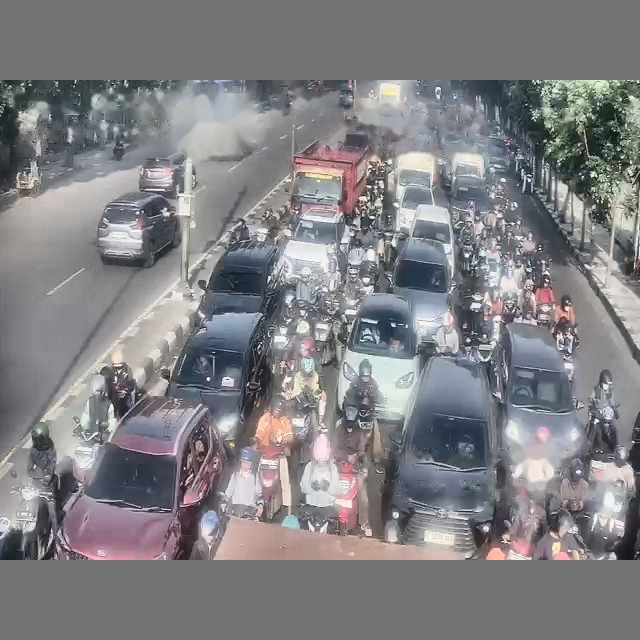Mobil: (56, 396, 225, 559), (385, 356, 501, 556), (166, 313, 270, 449), (491, 323, 584, 464), (337, 293, 419, 421), (386, 238, 455, 343), (197, 240, 283, 321), (97, 192, 181, 267), (283, 207, 349, 279), (409, 205, 455, 273), (139, 153, 185, 196), (394, 184, 433, 232), (449, 181, 489, 223), (485, 136, 509, 173), (339, 88, 353, 107)
Motor: (11, 480, 53, 559), (536, 303, 552, 328), (113, 141, 124, 160)
Truk: (291, 140, 371, 217)
